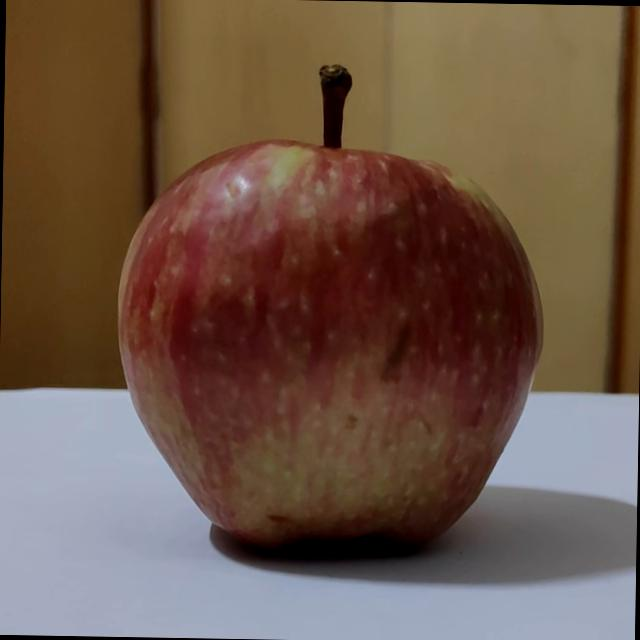apple: (113, 47, 560, 547)
